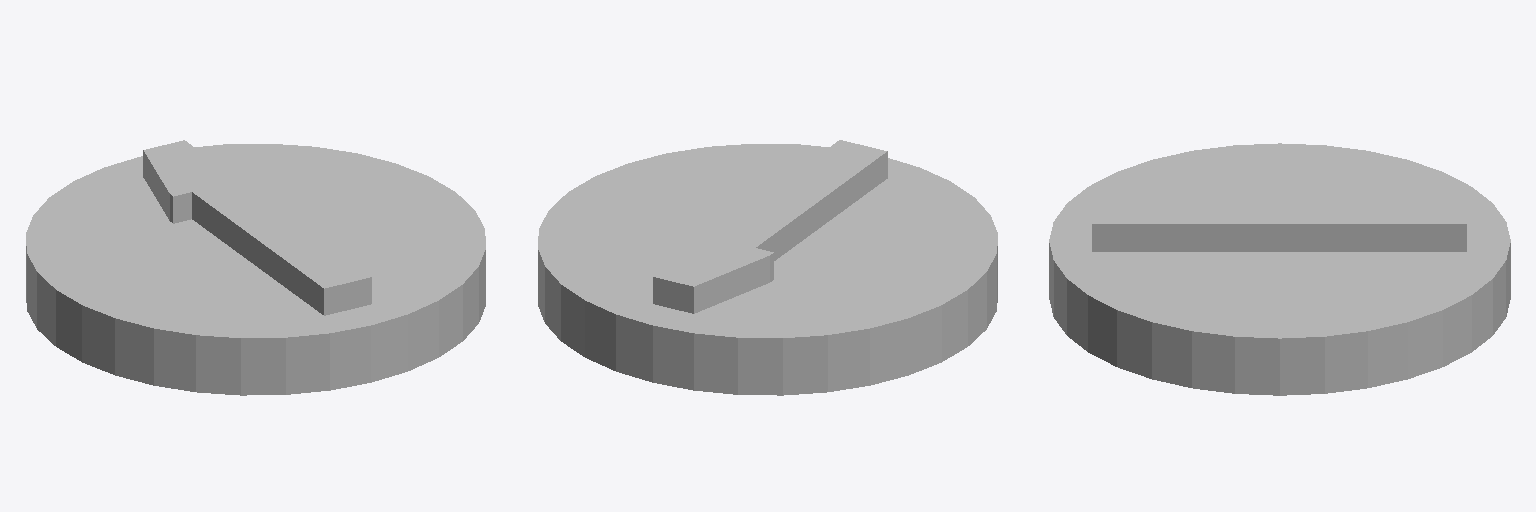
Rendered from COIN1.obj.
The picture shows the model from 3 angles: view 1: azimuth 30°, elevation 25°; view 2: azimuth 150°, elevation 25°; view 3: azimuth 270°, elevation 25°; orthographic projection.
Parts seen in each view (by area): view 1: Cylinder, Text; view 2: Cylinder, Text; view 3: Cylinder, Text.
Part boxes in pixels (left/top/right/bottom): Cylinder: left=26, top=144, right=485, bottom=395; Text: left=143, top=140, right=371, bottom=315; Cylinder: left=538, top=144, right=997, bottom=395; Text: left=653, top=140, right=887, bottom=313; Cylinder: left=1049, top=143, right=1510, bottom=395; Text: left=1092, top=192, right=1466, bottom=251.
Size of the model in its own units: 1.39 by 0.2805 by 1.39.